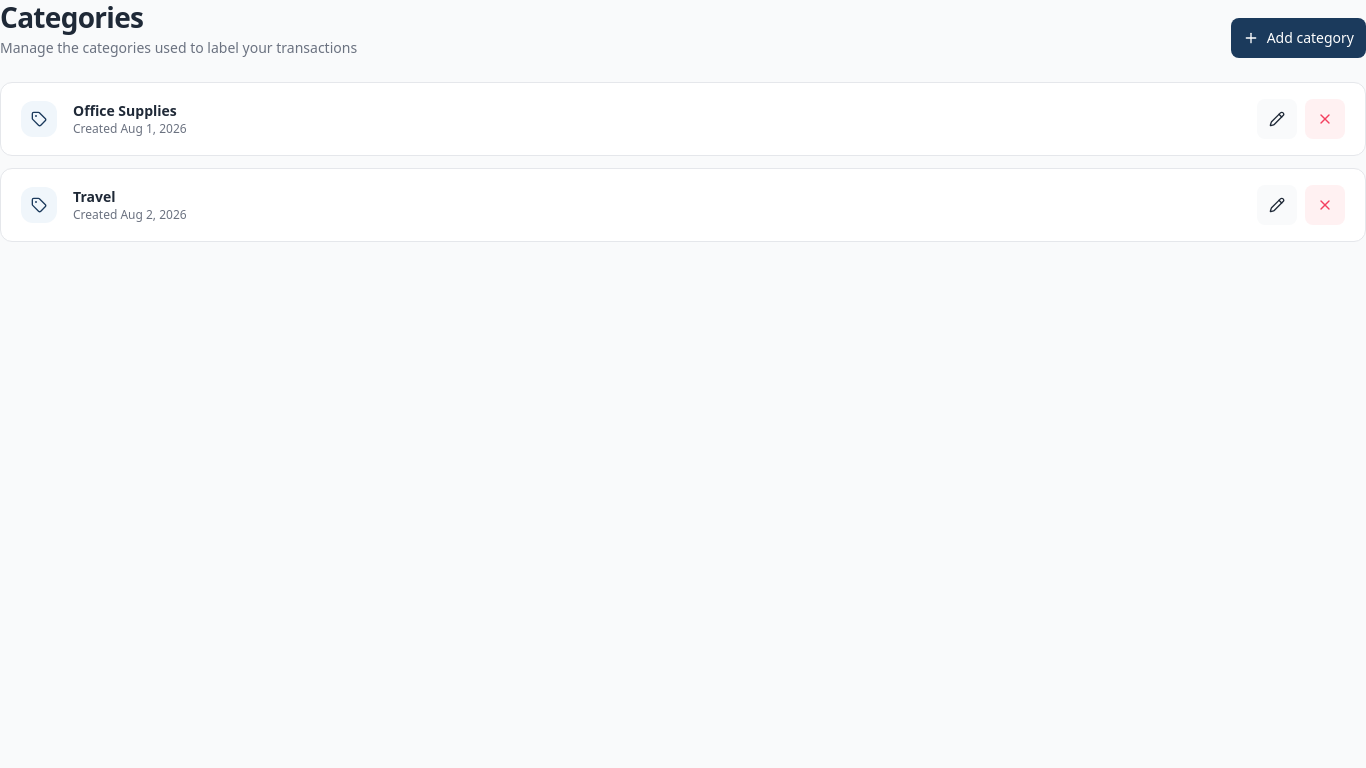
categories › deletes a category after confirmation
The width and height of the screenshot is (1366, 768).
Expected: the text "Travel" is shown, [73, 187, 116, 206]
Step 1. Click the button named "Delete Travel" → point(1325, 205), box [1305, 185, 1345, 225]
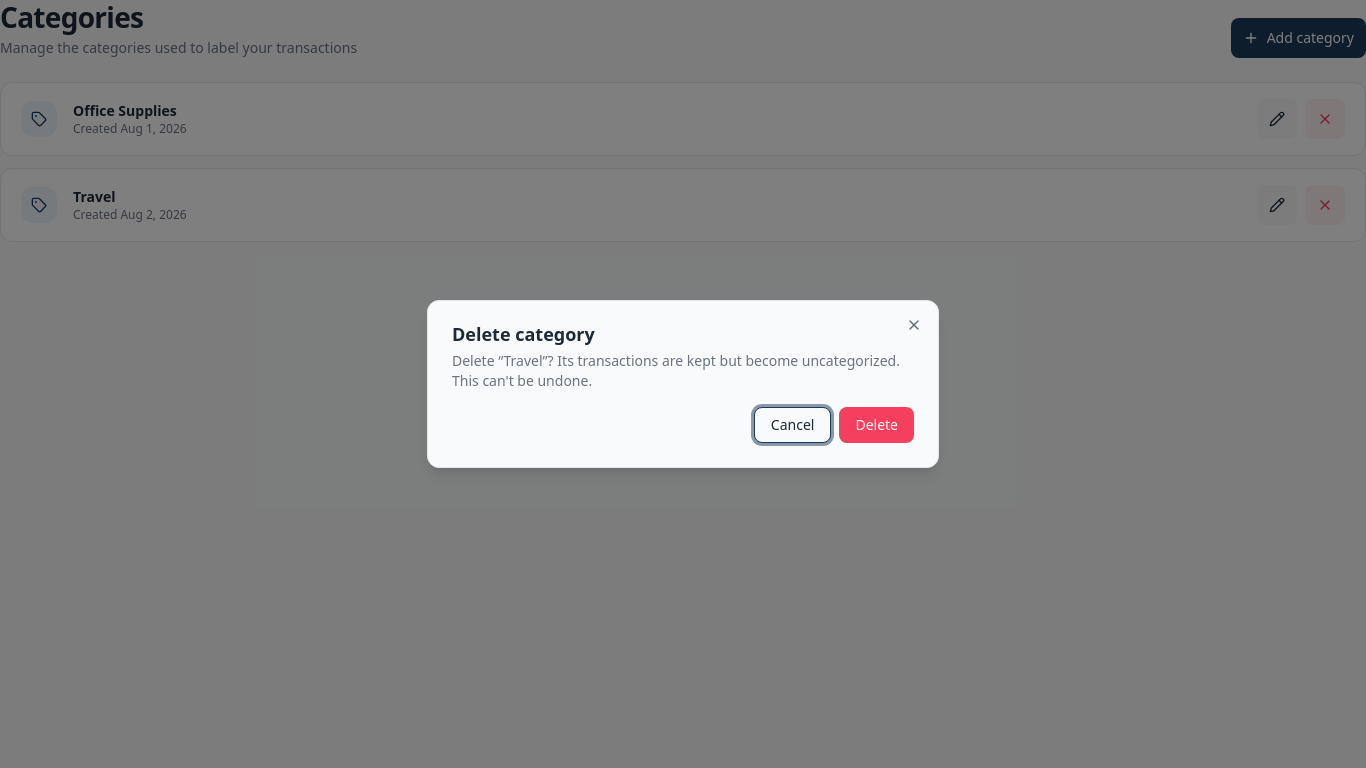
Step 2. Click the button "Delete" → point(877, 425), box [839, 407, 914, 443]
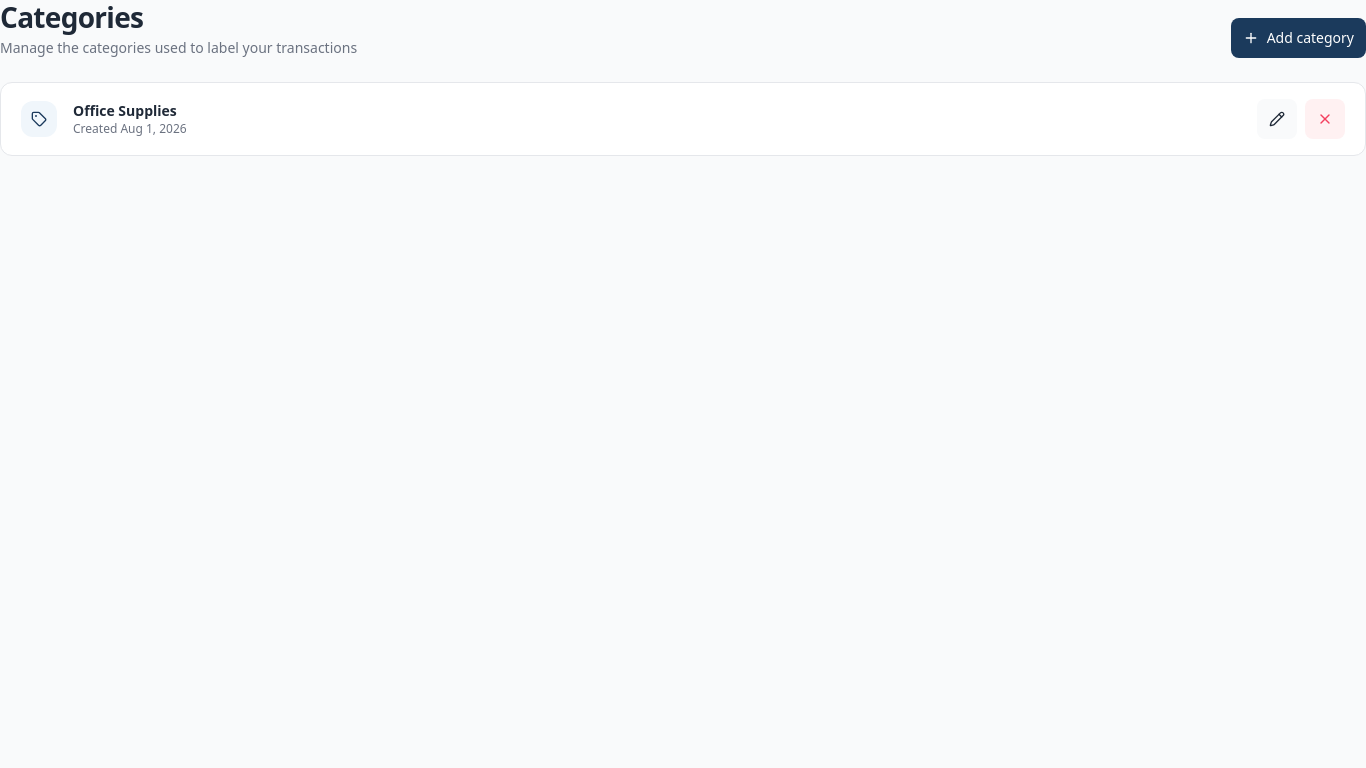
Expected: the text "Office Supplies" is shown, [73, 101, 177, 120]
Now the text "Travel" is gone
